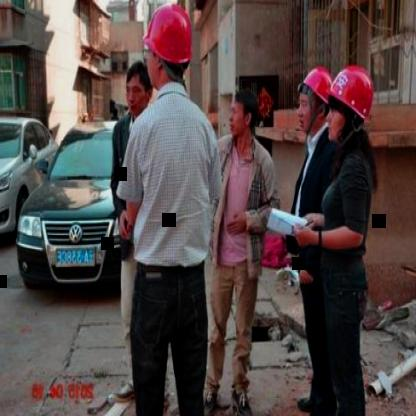head: (225, 85, 261, 144), (121, 59, 154, 113)
helmet: (135, 5, 197, 105), (322, 58, 374, 152), (296, 64, 334, 130)
